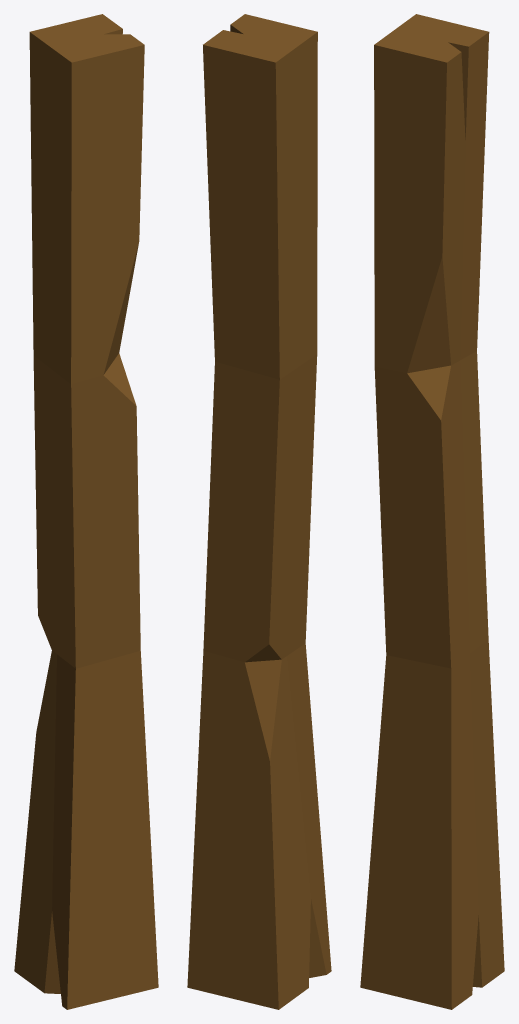
File: wooden_plank_2.fbx
3 views of the same model, side by side, from view 1: azimuth 30°, elevation 25°; view 2: azimuth 150°, elevation 25°; view 3: azimuth 330°, elevation 25° (orthographic).
Visible parts, largest first — view 1: Cube.055; view 2: Cube.055; view 3: Cube.055.
Boxes of the visible parts, x1,y1,x2,y2 form: Cube.055: [14, 14, 158, 1009]; Cube.055: [187, 14, 331, 1009]; Cube.055: [360, 14, 504, 1009].
Bounding box in the file's own units: 30.38 × 299 × 30.38.
